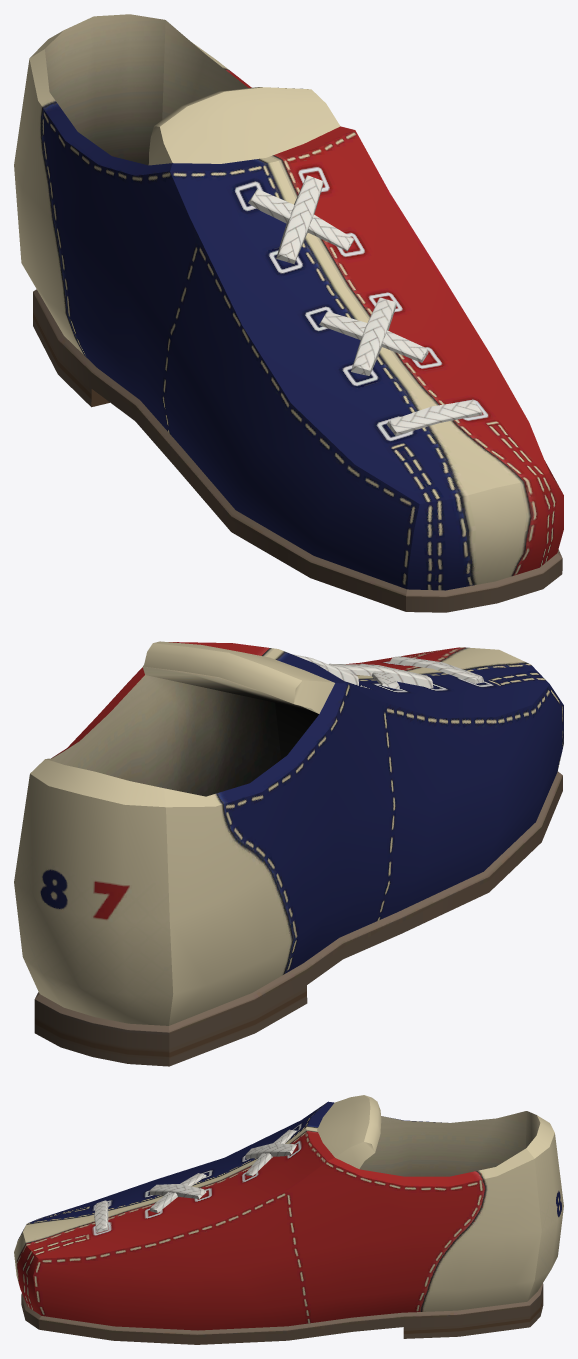
The model's file is shoe.glb.
3 views of the same model, one above another, from view 1: azimuth 30°, elevation 25°; view 2: azimuth 150°, elevation 25°; view 3: azimuth 270°, elevation 25° (orthographic). The views are drawn at different scales.
Visible parts, largest first — view 1: BowlingAlley_Shoe.001; view 2: BowlingAlley_Shoe.001; view 3: BowlingAlley_Shoe.001.
Boxes of the visible parts, x1,y1,x2,y2 form: BowlingAlley_Shoe.001: [14, 14, 563, 612]; BowlingAlley_Shoe.001: [14, 641, 563, 1066]; BowlingAlley_Shoe.001: [14, 1095, 563, 1344].
Size of the model in its own units: 0.1088 by 0.123 by 0.3092.
Materials: 1 (1 with a texture image).
